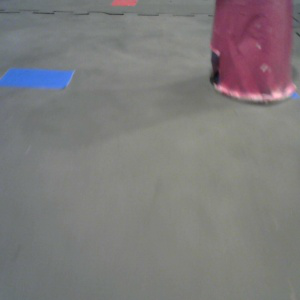Right: (211, 1, 296, 101)
